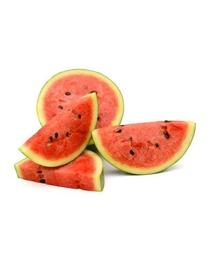watermelon: (14, 68, 196, 190)
